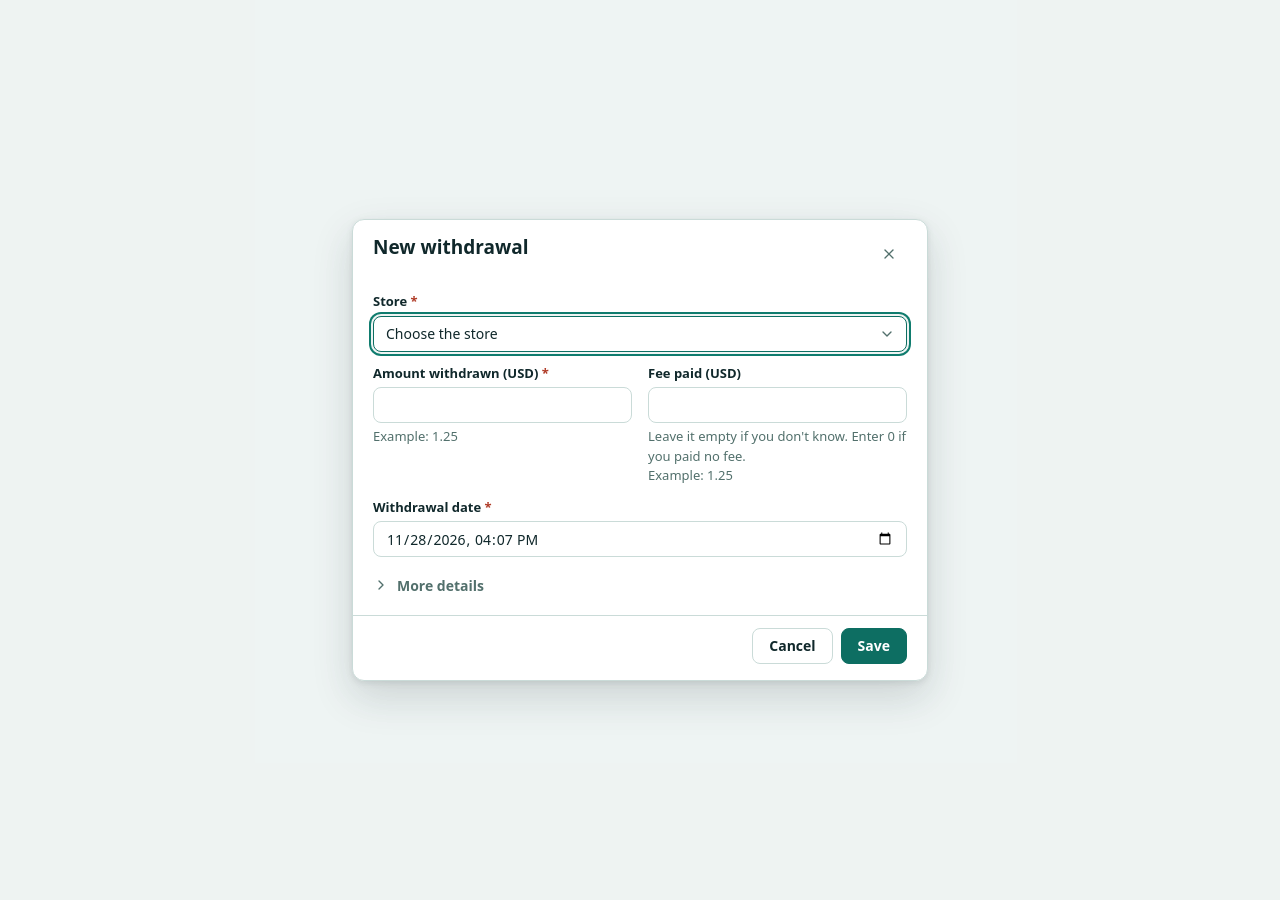
Scenario: WithdrawalFormModal (QA 12.7b) › a loja é obrigatória: sem escolher, mostra o erro e não chama a API
Step 1. Type "10" into the field labelled "Amount withdrawn (USD) *" → (502, 405), box [386,388,619,422]
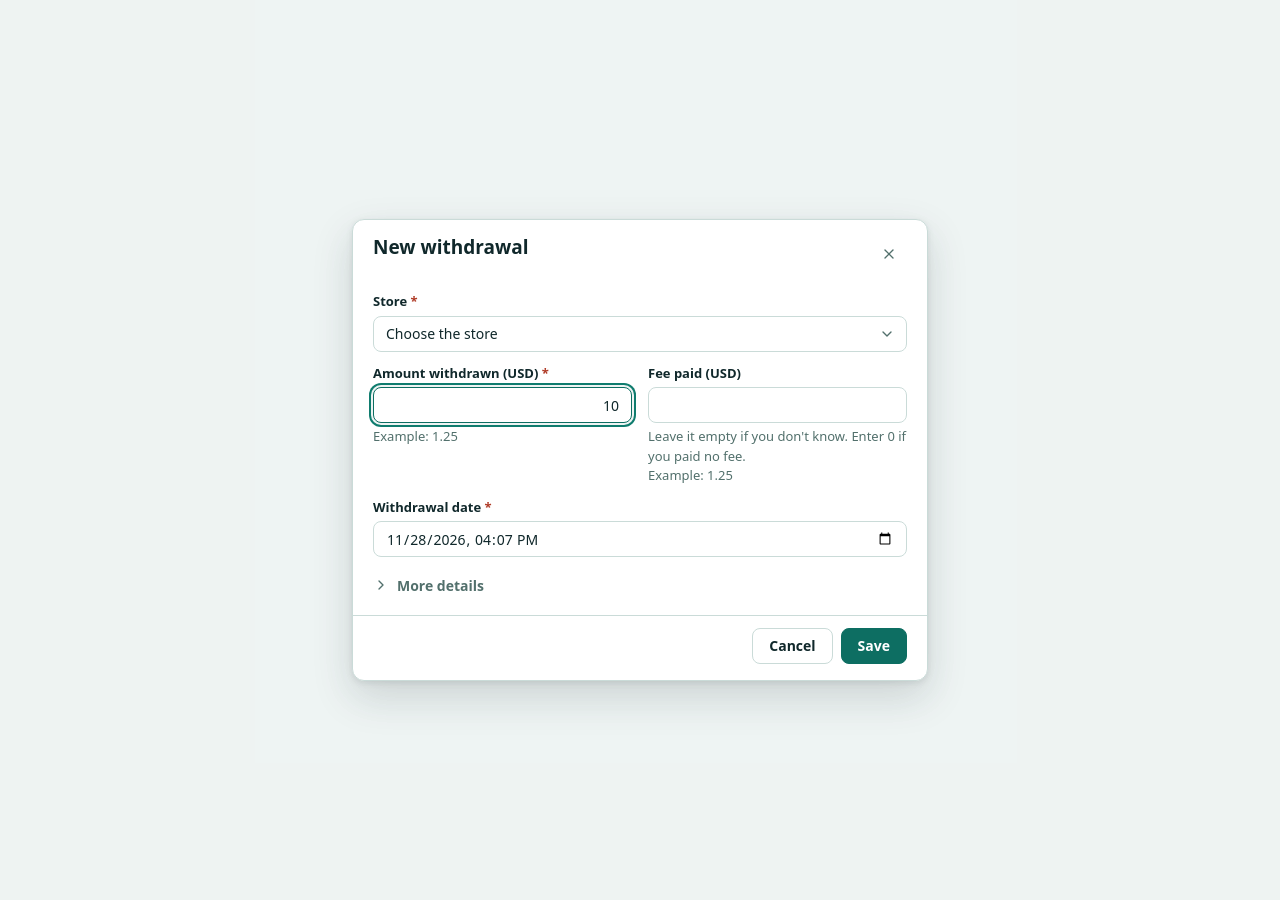
Step 2. Click the button "Save" → (874, 646), box [841,628,907,664]
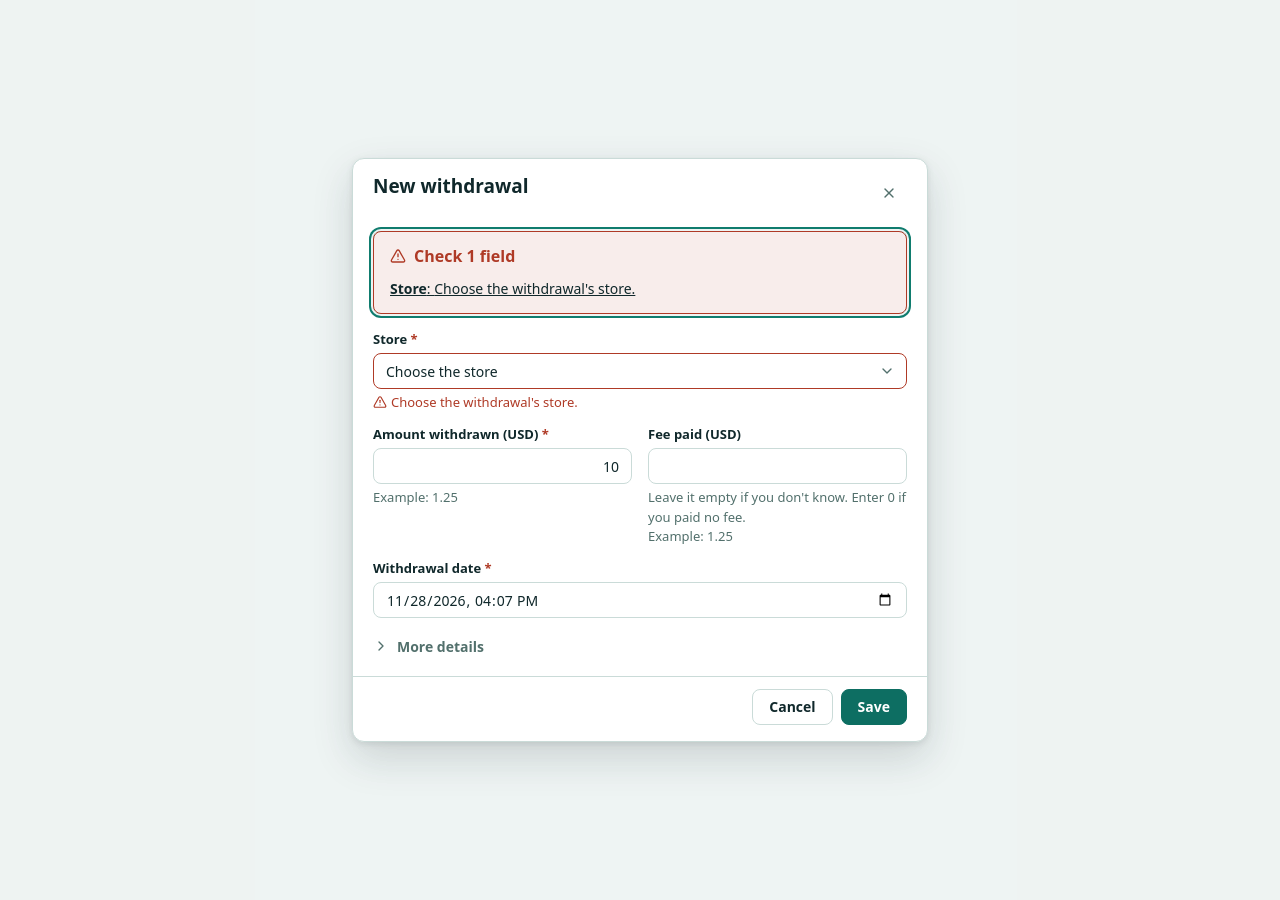
Check: the message "Check 1 field Store: Choose the withdrawal's store." is shown, box [373,231,907,314]
